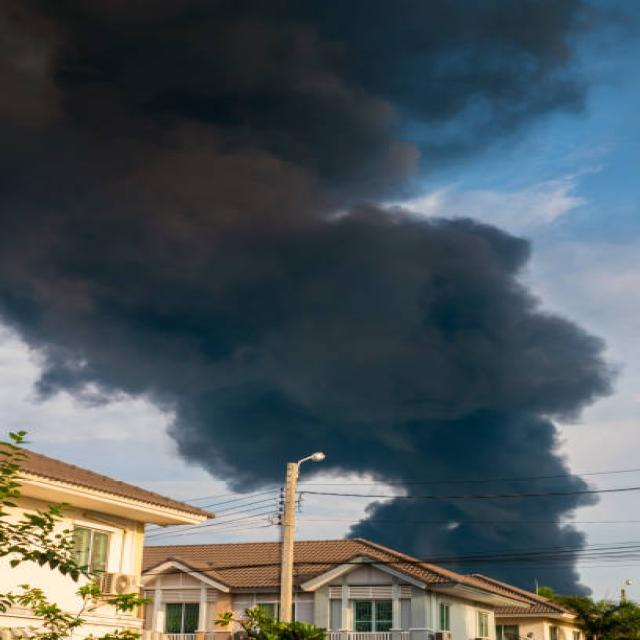Smoke: (0, 0, 604, 601)
